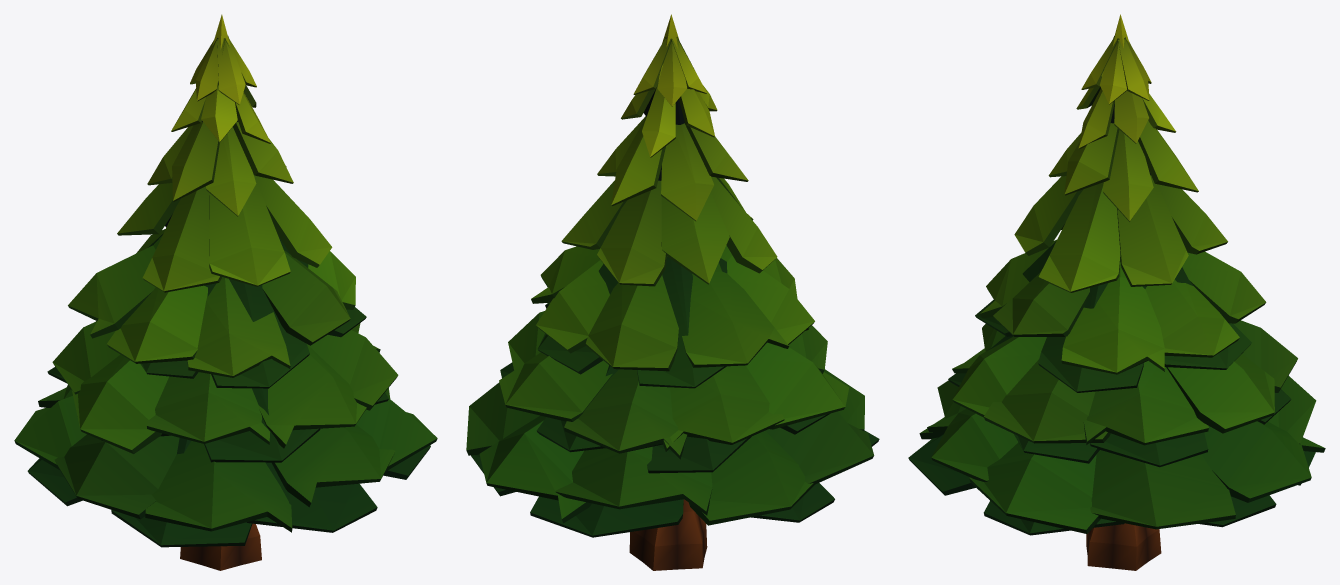
The model's file is pine_tree.glb.
The picture shows the model from 3 angles, left to right: view 1: azimuth 30°, elevation 25°; view 2: azimuth 150°, elevation 25°; view 3: azimuth 270°, elevation 25°; orthographic projection.
Parts seen in each view (by area): view 1: pine_tree; view 2: pine_tree; view 3: pine_tree.
Boxes of the visible parts, x1,y1,x2,y2 form: pine_tree: [14, 14, 437, 570]; pine_tree: [466, 14, 879, 570]; pine_tree: [908, 14, 1325, 570].
Bounding box in the file's own units: 4.71 × 6.8 × 4.76.
